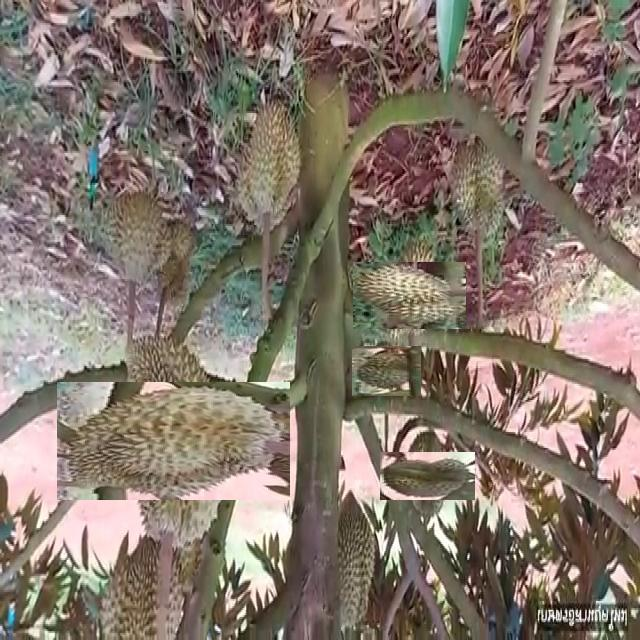durian: (86, 353, 262, 529), (235, 96, 307, 235), (96, 529, 186, 640), (317, 482, 384, 628), (364, 250, 455, 340), (446, 126, 512, 245), (104, 187, 174, 285), (391, 440, 463, 512), (150, 220, 200, 312), (356, 341, 416, 401)
